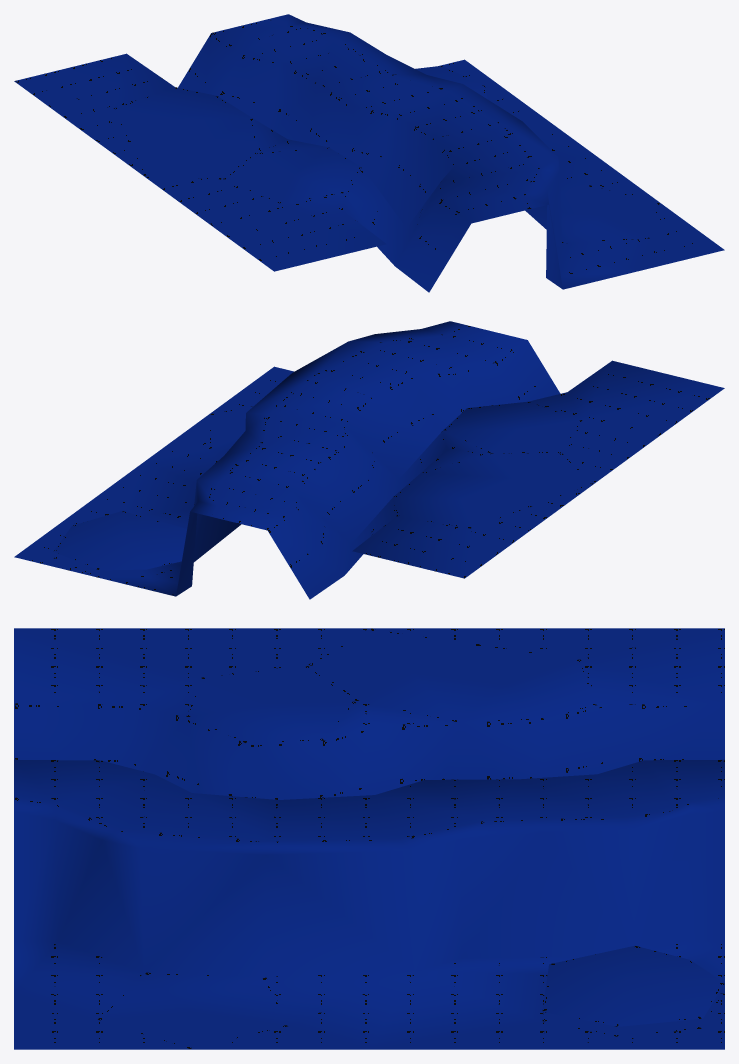
File: GRD_S_C3_R1_2.fbx
The picture shows the model from 3 angles, top to bottom: view 1: azimuth 30°, elevation 25°; view 2: azimuth 150°, elevation 25°; view 3: azimuth 270°, elevation 25°; orthographic projection. The views are drawn at different scales.
Parts seen in each view (by area): view 1: material_00022000, material_C0052000, material_C0032000, material_00042000, material_C0012000; view 2: material_00022000, material_C0052000, material_C0032000, material_00042000, material_C0012000, material_C0062000; view 3: material_00022000, material_00042000, material_C0052000, material_C0032000, material_C0012000, material_C0062000.
Part boxes in pixels (left/top/right/bottom): material_00022000: left=14, top=19, right=724, bottom=289; material_C0052000: left=178, top=33, right=471, bottom=292; material_C0032000: left=113, top=87, right=659, bottom=243; material_00042000: left=268, top=14, right=562, bottom=289; material_C0012000: left=415, top=66, right=487, bottom=99; material_00022000: left=14, top=326, right=724, bottom=596; material_C0052000: left=267, top=340, right=560, bottom=599; material_C0032000: left=209, top=401, right=594, bottom=528; material_00042000: left=176, top=321, right=470, bottom=596; material_C0012000: left=53, top=511, right=186, bottom=570; material_C0062000: left=53, top=553, right=181, bottom=577; material_00022000: left=14, top=628, right=724, bottom=1049; material_00042000: left=14, top=797, right=724, bottom=976; material_C0052000: left=14, top=703, right=724, bottom=799; material_C0032000: left=97, top=628, right=598, bottom=1049; material_C0012000: left=542, top=945, right=724, bottom=1026; material_C0062000: left=542, top=990, right=724, bottom=1036.
Bounding box in the file's own units: 12800 × 2400 × 12800.
